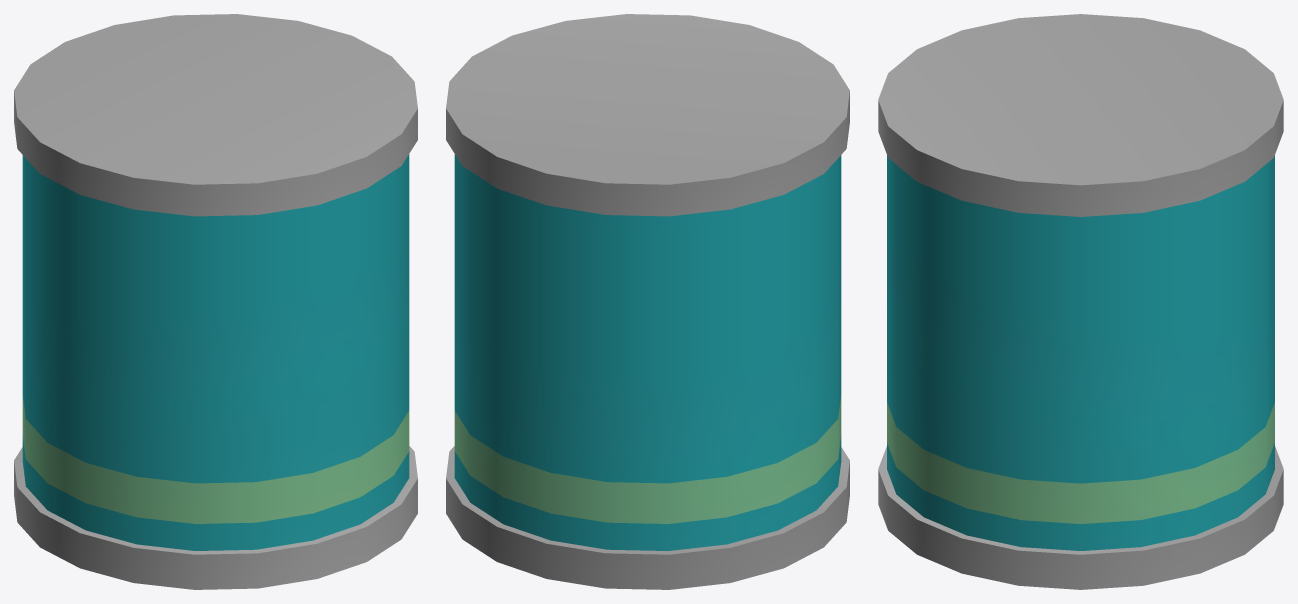
File: Ürün19.fbx
3 views of the same model, side by side, from view 1: azimuth 30°, elevation 25°; view 2: azimuth 150°, elevation 25°; view 3: azimuth 270°, elevation 25° (orthographic).
Visible parts, largest first — view 1: pCylinder11; view 2: pCylinder11; view 3: pCylinder11.
Boxes of the visible parts, bbox=[...] form: pCylinder11: bbox=[14, 14, 417, 589]; pCylinder11: bbox=[446, 14, 849, 589]; pCylinder11: bbox=[878, 14, 1283, 589].
Bounding box in the file's own units: 9.51 × 10.47 × 9.51.
